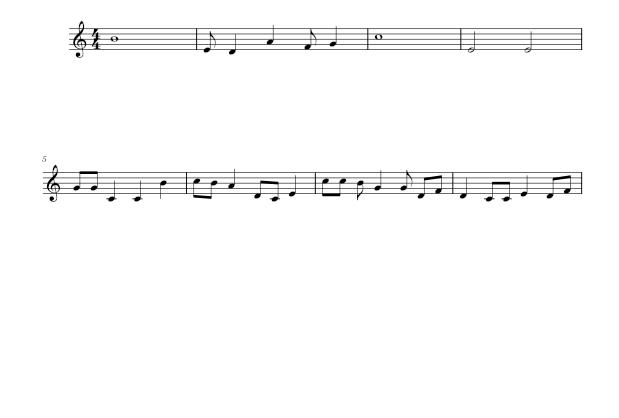Treble Clef: (70, 17, 90, 61), (45, 163, 64, 204)
